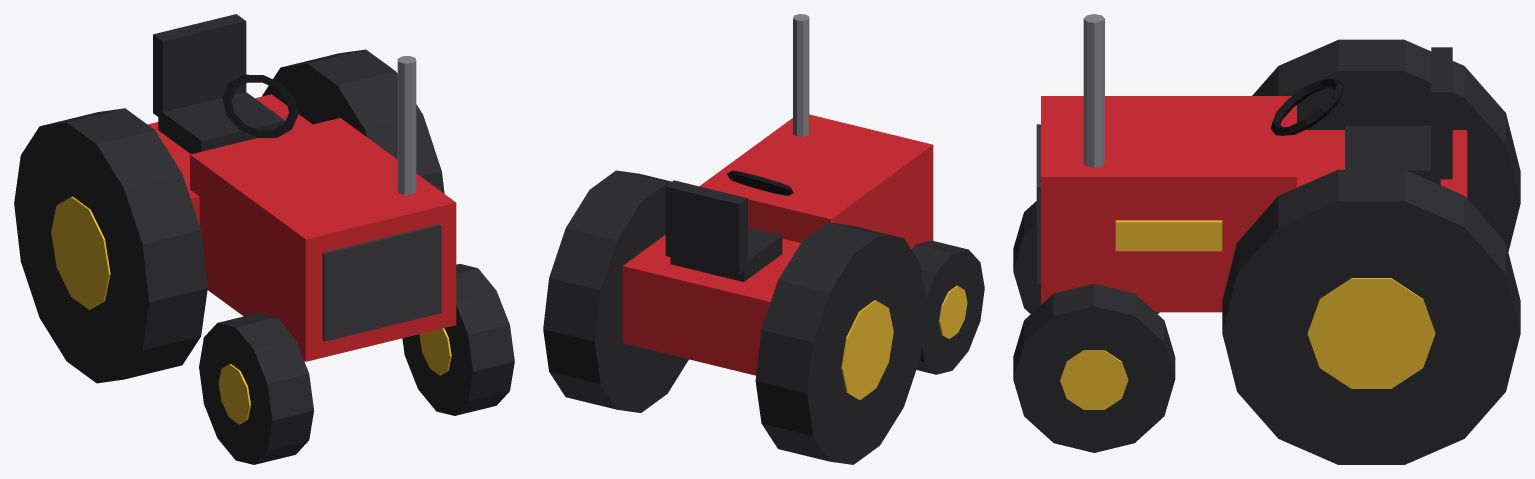
File: farm_tractor.glb
3 renders of one model, left to right at view 1: azimuth 30°, elevation 25°; view 2: azimuth 150°, elevation 25°; view 3: azimuth 270°, elevation 25°, orthographic. The views are drawn at different scales.
Parts seen in each view (by area): view 1: tires_tractor_tire, body_tractor_red, seat_tractor_seat (×2), grille_tractor_grille, hubs_tractor_hub, pipe_tractor_pipe, wheel_black; view 2: tires_tractor_tire, body_tractor_red, seat_tractor_seat (×2), hubs_tractor_hub, pipe_tractor_pipe, wheel_black; view 3: tires_tractor_tire, body_tractor_red, hubs_tractor_hub, seat_tractor_seat (×2), sticker_turbo_sticker, pipe_tractor_pipe, wheel_black, grille_tractor_grille.
Part boxes in pixels (x1,y1,x2,y2): tires_tractor_tire: (14,49,514,464); body_tractor_red: (148,94,456,361); seat_tractor_seat (×2): (153,14,285,154); grille_tractor_grille: (322,224,441,341); hubs_tractor_hub: (51,196,451,424); pipe_tractor_pipe: (397,56,416,194); wheel_black: (222,74,298,137); tires_tractor_tire: (543,170,984,464); body_tractor_red: (622,114,933,375); seat_tractor_seat (×2): (665,180,782,281); hubs_tractor_hub: (841,285,967,399); pipe_tractor_pipe: (793,14,809,136); wheel_black: (727,170,793,195); tires_tractor_tire: (1013,39,1520,464); body_tractor_red: (1041,96,1467,312); hubs_tractor_hub: (1060,278,1435,409); seat_tractor_seat (×2): (1345,47,1452,184); sticker_turbo_sticker: (1115,220,1222,251); pipe_tractor_pipe: (1083,14,1104,167); wheel_black: (1270,79,1344,135); grille_tractor_grille: (1036,124,1040,283).
Size of the model in its own units: 1.81 by 2.05 by 2.38.
